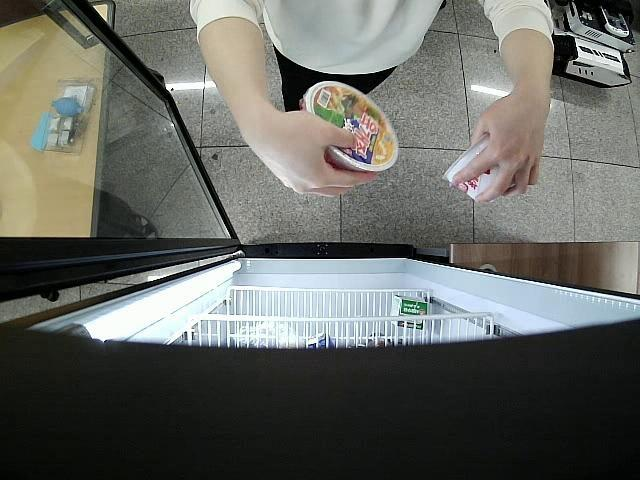09_yukGaeJang: (300, 80, 400, 174), (442, 133, 512, 202)
